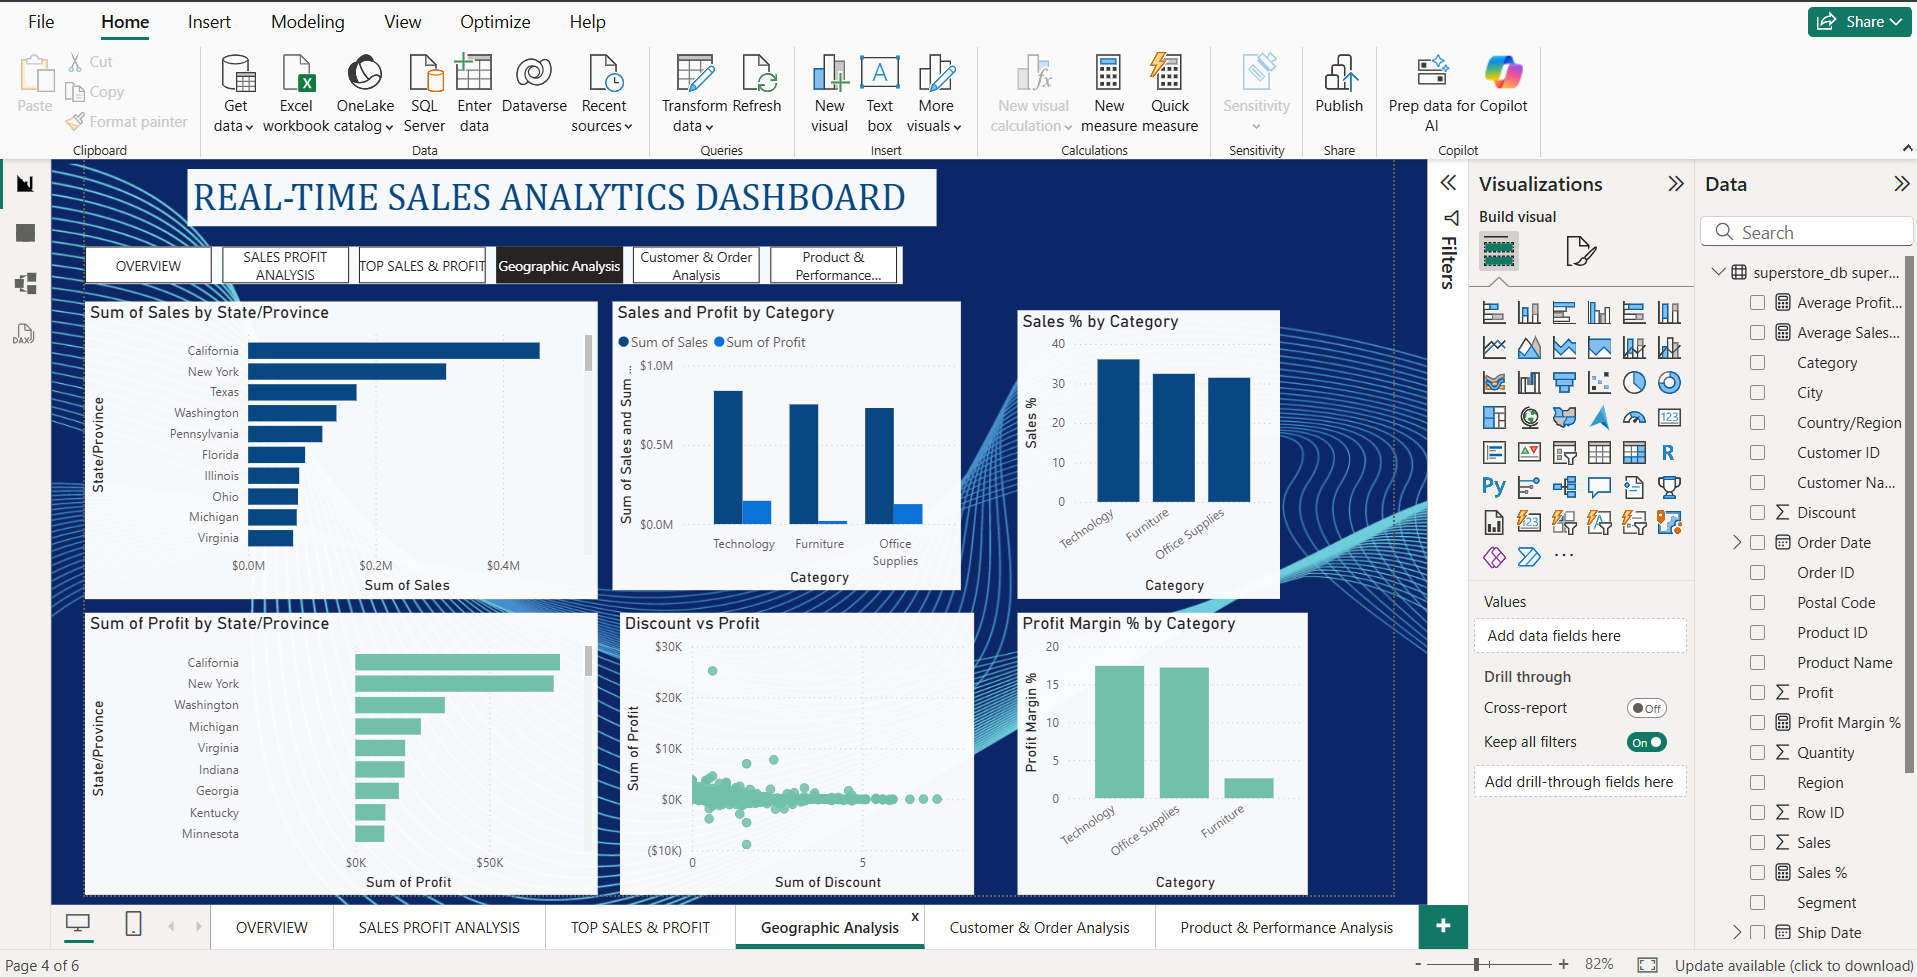

What the dashboard file says about the page in this screenshot:
{"tool":"powerbi","page":{"name":"Geographic Analysis","canvas":[1280,720],"ordinal":3},"visuals":[{"type":"clusteredBarChart","fields":{"Y":["Sum(superstore_db superstore.Sales)"],"Category":["superstore_db superstore.State/Province"]},"box":[0,139.4,501.4,291],"z":0},{"type":"clusteredBarChart","fields":{"Category":["superstore_db superstore.State/Province"],"Y":["Sum(superstore_db superstore.Profit)"]},"box":[0,443.9,501.4,276.4],"z":1000},{"type":"clusteredColumnChart","title":"Sales and Profit by Category","fields":{"Category":["superstore_db superstore.Category"],"Y":["Sum(superstore_db superstore.Sales)","Sum(superstore_db superstore.Profit)"]},"box":[516,139.4,341.2,282.5],"z":2000},{"type":"clusteredColumnChart","fields":{"Category":["superstore_db superstore.Category"],"Y":["superstore_db superstore.Profit Margin %"]},"box":[912.2,443.9,283.7,276.4],"z":3000},{"type":"scatterChart","title":"Discount vs Profit","fields":{"X":["Sum(superstore_db superstore.Discount)"],"Y":["Sum(superstore_db superstore.Profit)"],"Category":["superstore_db superstore.Product Name"]},"box":[523.4,443.9,346.1,276.4],"z":4000},{"type":"clusteredColumnChart","fields":{"Y":["superstore_db superstore.Sales %"],"Category":["superstore_db superstore.Category"]},"box":[912.2,148,256.8,282.5],"z":5000},{"type":"textbox","box":[100.3,9.8,732.5,56.3],"z":6000},{"type":"pageNavigator","box":[0,85.6,799.7,36.7],"z":7000}]}

Visuals, with their boxes on the page's 1280x720 design canvas (x1, y1, x2, y2). These are canvas units, not pixel positions in the 1917x977 screenshot, which may show the page scaled, cropped or inside an application window:
clusteredBarChart - Sum(superstore_db superstore.Sales) x superstore_db superstore.State/Province: 0:139:501:430
clusteredBarChart - superstore_db superstore.State/Province x Sum(superstore_db superstore.Profit): 0:444:501:720
"Sales and Profit by Category" clusteredColumnChart: 516:139:857:422
clusteredColumnChart - superstore_db superstore.Category x superstore_db superstore.Profit Margin %: 912:444:1196:720
"Discount vs Profit" scatterChart: 523:444:870:720
clusteredColumnChart - superstore_db superstore.Sales % x superstore_db superstore.Category: 912:148:1169:430
textbox: 100:10:833:66
pageNavigator: 0:86:800:122
